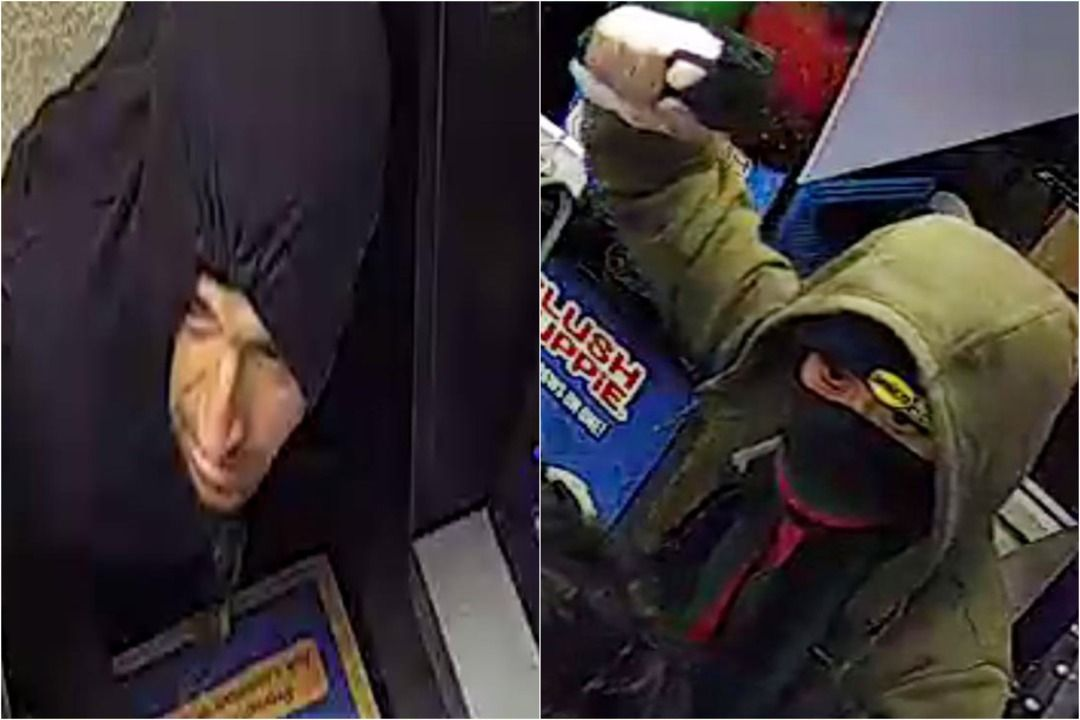gun: (578, 2, 808, 217)
